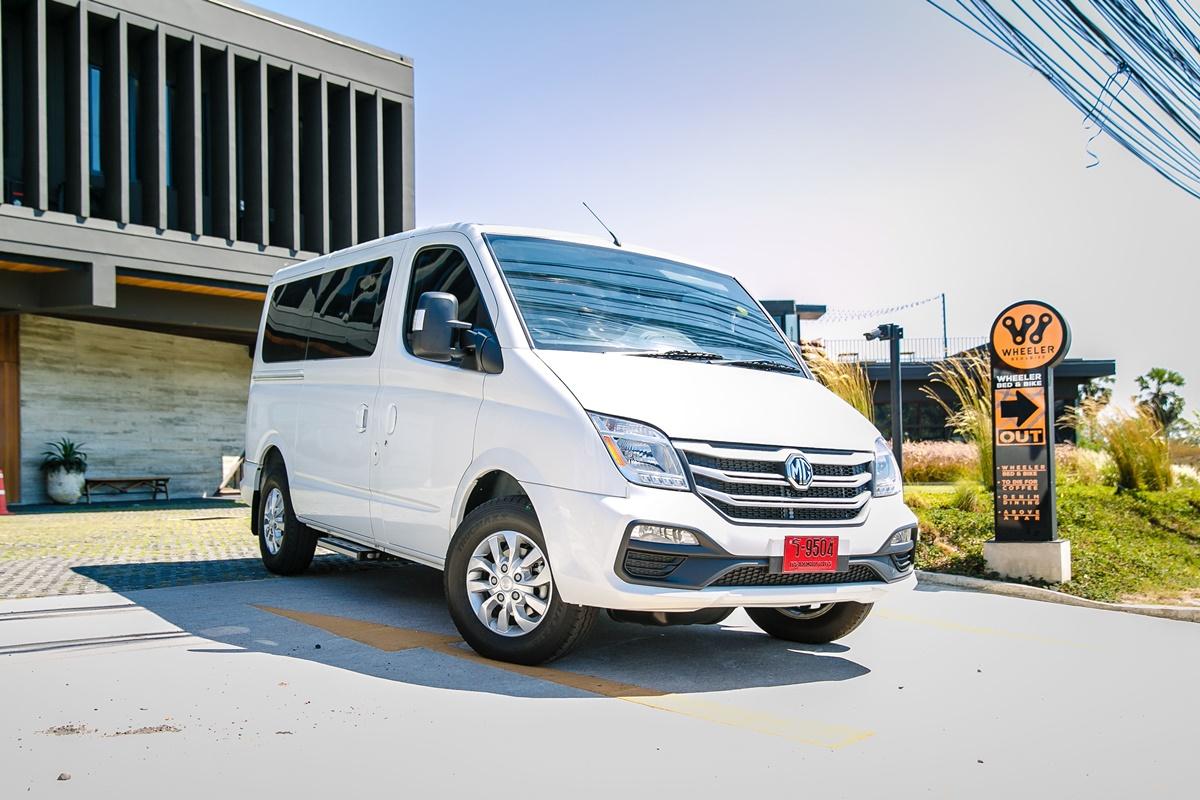van: (239, 219, 922, 667)
